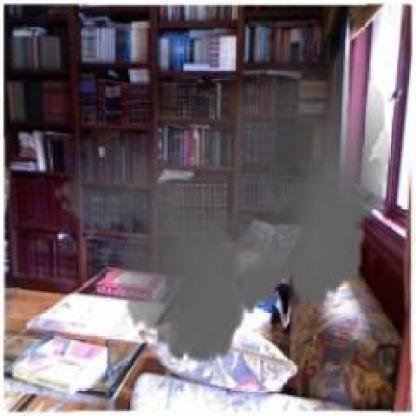Smoke: (52, 30, 392, 376)
